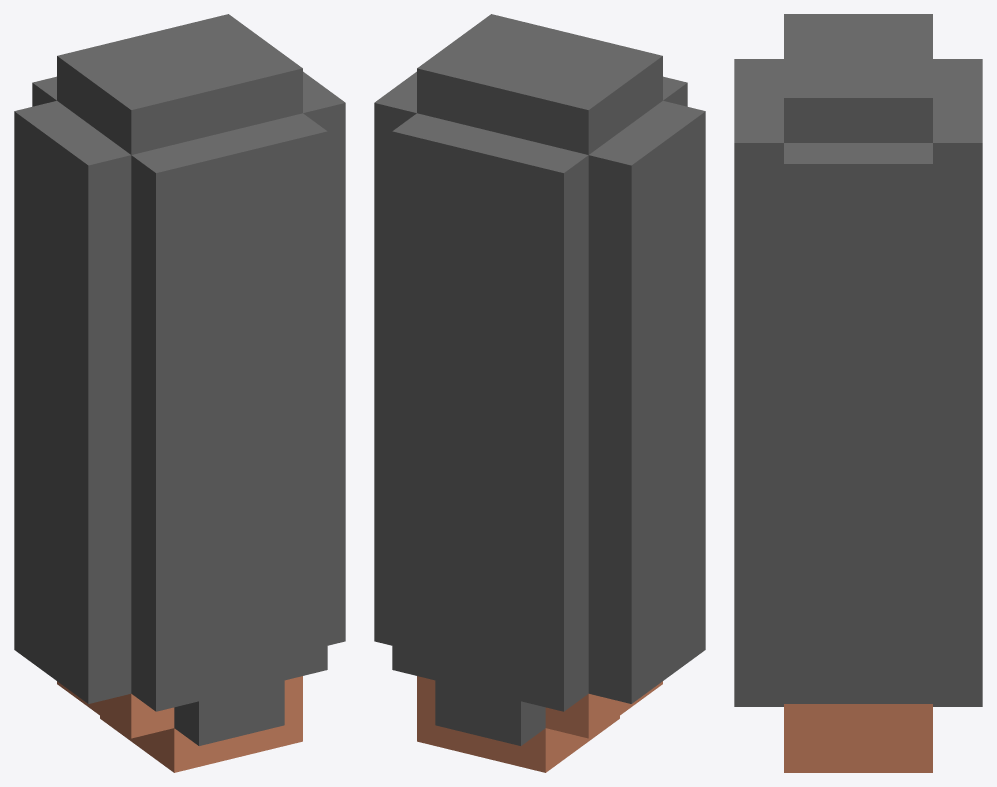
File: Knight1Arm.obj
3 views of the same model, side by side, from view 1: azimuth 30°, elevation 25°; view 2: azimuth 150°, elevation 25°; view 3: azimuth 270°, elevation 25° (orthographic).
Size of the model in its own units: 6 by 15 by 5.
Materials: 1 (1 with a texture image).
